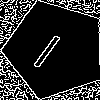I: (30, 25, 70, 70)
